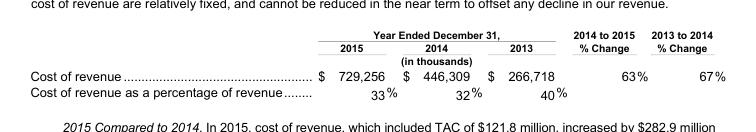table: (29, 28, 725, 101)
table column: (29, 28, 299, 101), (299, 28, 399, 101), (399, 28, 484, 101), (484, 28, 569, 101), (569, 28, 649, 101), (649, 28, 725, 101)
table column header: (29, 28, 725, 67)
table row: (29, 83, 725, 101), (29, 67, 725, 83), (29, 28, 725, 41), (29, 41, 725, 54), (29, 54, 725, 67)
table spanning cell: (299, 28, 569, 41), (299, 54, 569, 67), (569, 28, 649, 67), (649, 28, 725, 67)
